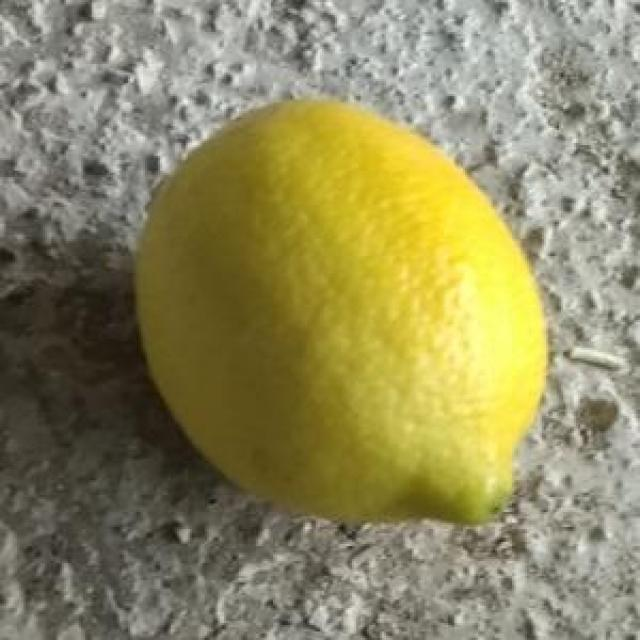lemon: (132, 98, 550, 534)
